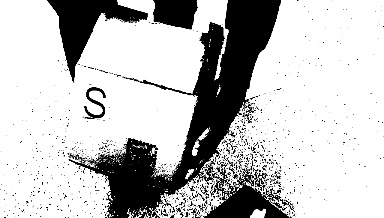S: (81, 79, 109, 120)
